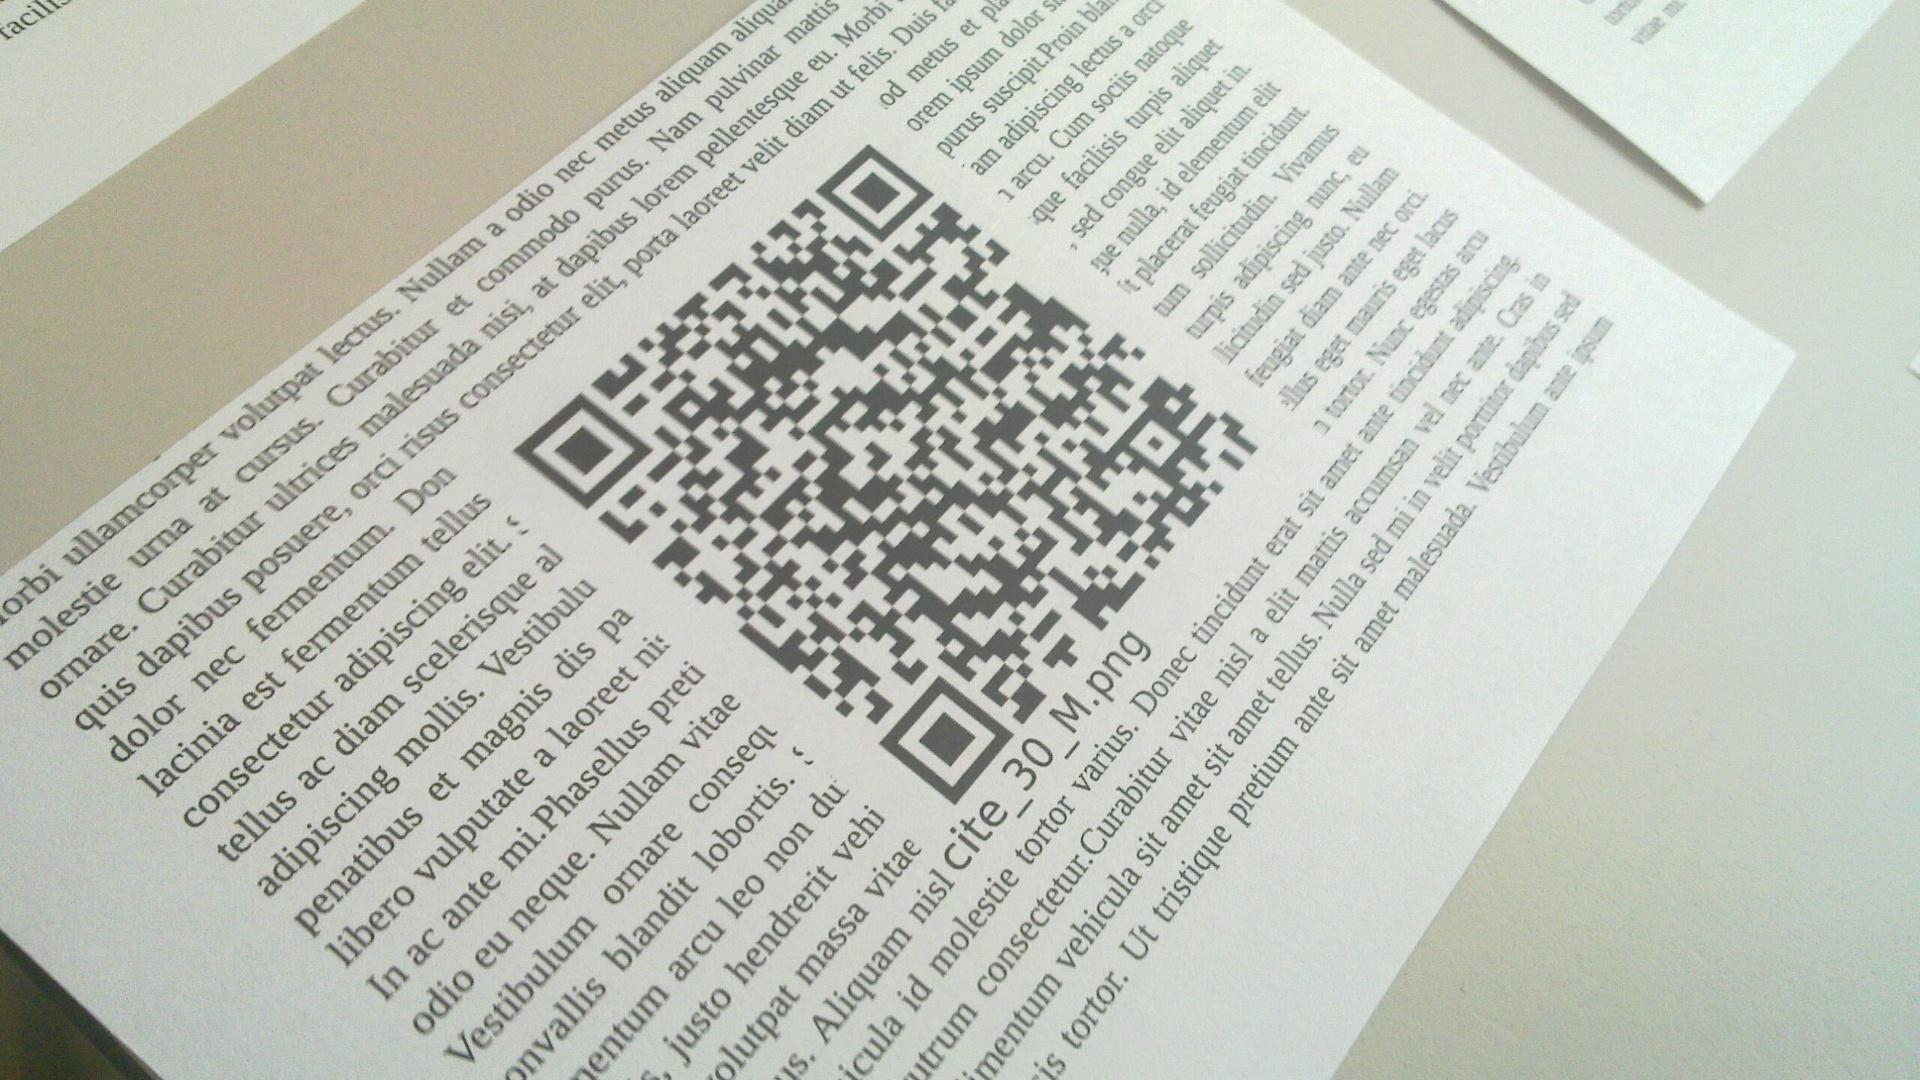Finder pattern: (881, 673, 1010, 799), (514, 398, 654, 509), (818, 142, 934, 241)
